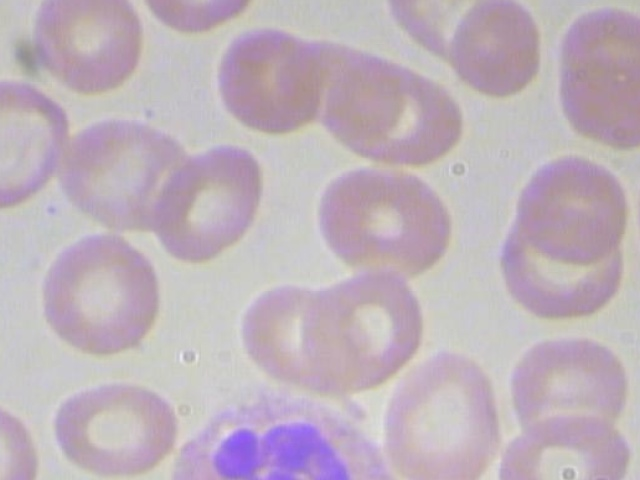RBC: (301, 157, 461, 289), (372, 343, 508, 480), (33, 229, 164, 359), (147, 138, 278, 268), (497, 204, 626, 330), (510, 325, 638, 451), (511, 149, 633, 264), (208, 22, 325, 136), (46, 379, 178, 480), (21, 0, 152, 100), (0, 78, 86, 214), (491, 407, 636, 480), (446, 0, 543, 98), (557, 44, 640, 157), (0, 389, 54, 480), (139, 0, 276, 35), (634, 139, 640, 277)
WBC: (142, 385, 411, 480)
